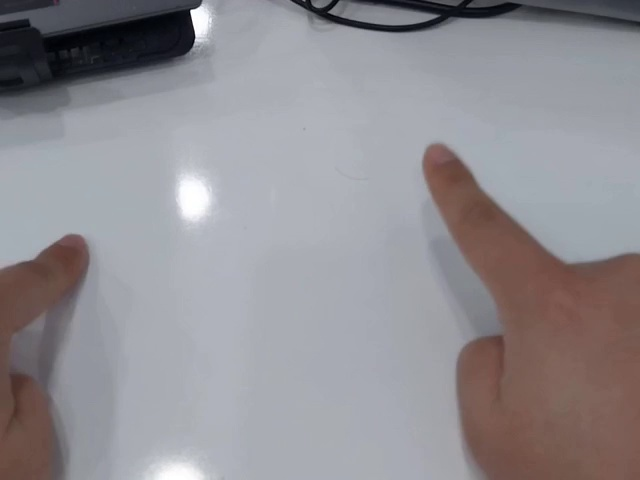fingers: (421, 139, 473, 195), (38, 234, 91, 285)
